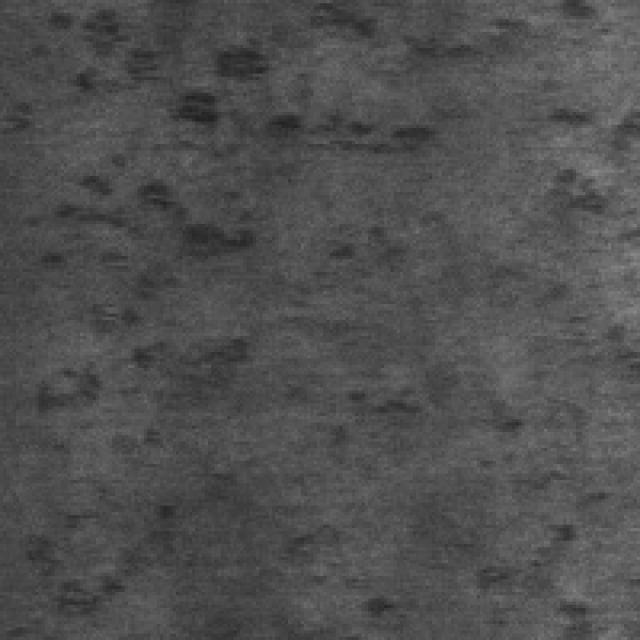rolled-in_scale: (16, 19, 339, 416)
